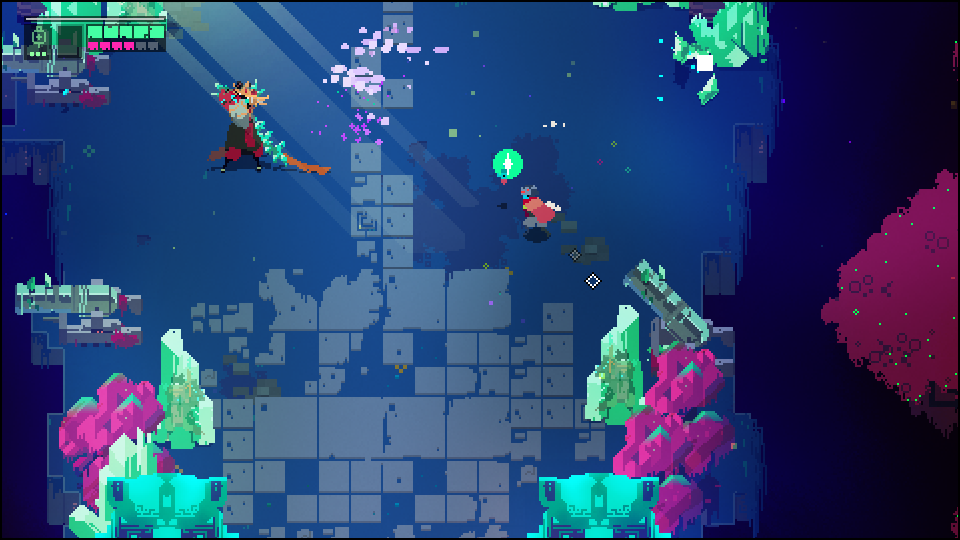hanged_man: (201, 77, 305, 176)
hanged_shot: (492, 145, 526, 184)
player: (518, 184, 559, 235)
